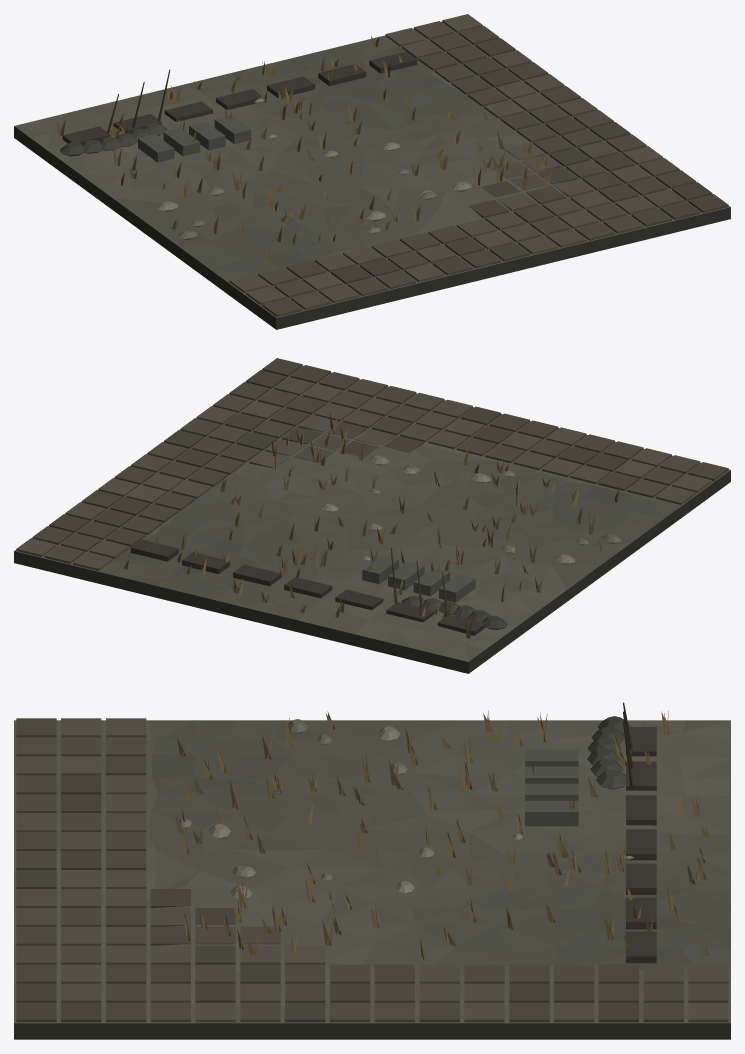
Rendered from CHUNK_oath_battlefield__broken_standards__00.glb.
3 views of the same model, one above another, from view 1: azimuth 30°, elevation 25°; view 2: azimuth 150°, elevation 25°; view 3: azimuth 270°, elevation 25° (orthographic). The views are drawn at different scales.
Visible parts, largest first — view 1: CHUNK_oath_battlefield__broken_standards__00; view 2: CHUNK_oath_battlefield__broken_standards__00; view 3: CHUNK_oath_battlefield__broken_standards__00.
Part boxes in pixels (left/top/right/bottom): CHUNK_oath_battlefield__broken_standards__00: left=14, top=14, right=730, bottom=329; CHUNK_oath_battlefield__broken_standards__00: left=14, top=358, right=730, bottom=673; CHUNK_oath_battlefield__broken_standards__00: left=14, top=702, right=730, bottom=1039.
Bounding box in the file's own units: 8 × 1.15 × 8.
